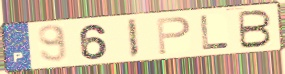6: (77, 22, 110, 61)
9: (37, 24, 70, 67)
B: (237, 9, 274, 50)
I: (125, 18, 141, 60)
L: (199, 14, 232, 52)
P: (155, 15, 193, 56)
